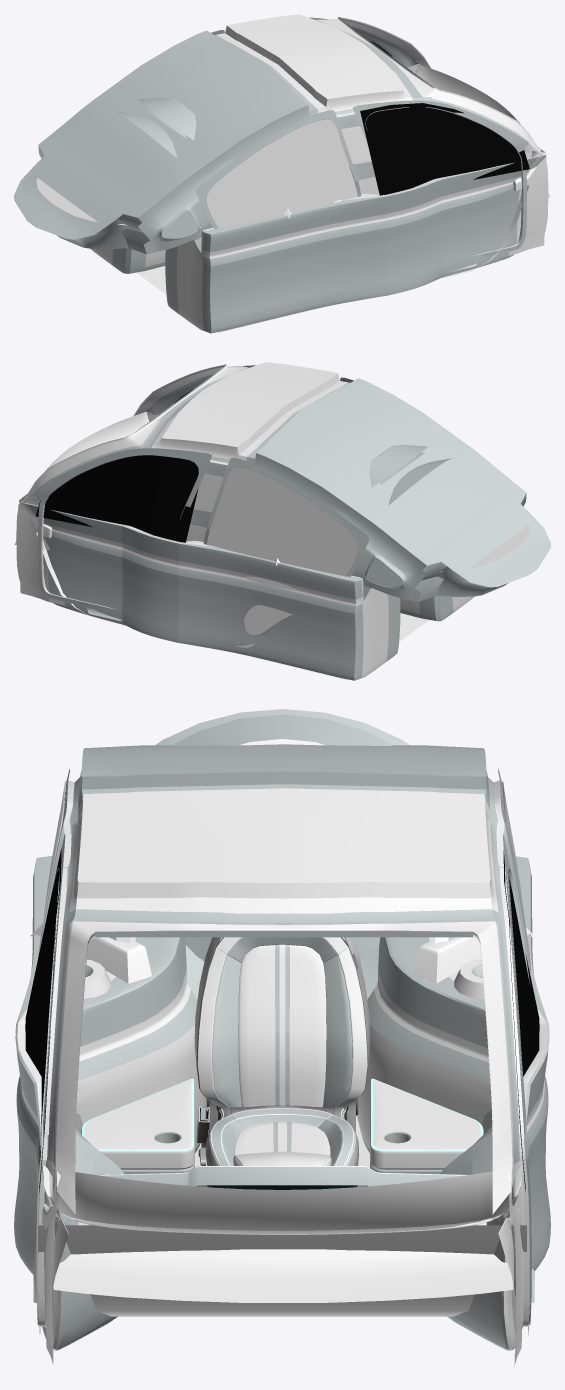
The model's file is Bynocs Car New.fbx.
The picture shows the model from 3 angles, top to bottom: view 1: azimuth 30°, elevation 25°; view 2: azimuth 150°, elevation 25°; view 3: azimuth 270°, elevation 25°; orthographic projection. The views are drawn at different scales.
Parts seen in each view (by area): view 1: Frame_Low, Cube.001, Cube.005, Sphere, Dashboard_Upper_Low, Plane, Leather_white_Low; view 2: Frame_Low, Cube.001, Cube.005, Sphere, Dashboard_Upper_Low, Plane, Leather_white_Low; view 3: Frame_Low, Cube.001, Dashboard_Upper_Low, Plane, Cube.003, Lether_Y_1, Lether_Y_4, Sphere, Cube.005, Cube.002, Cube.004, Leather_Y1 (+5 smaller).
Part boxes in pixels (<box>): Frame_Low: <box>14,14,548,271</box>; Cube.001: <box>91,72,546,333</box>; Cube.005: <box>360,41,529,195</box>; Sphere: <box>113,97,196,157</box>; Dashboard_Upper_Low: <box>415,64,550,197</box>; Plane: <box>136,185,528,332</box>; Leather_white_Low: <box>36,178,202,230</box>; Frame_Low: <box>16,362,550,647</box>; Cube.001: <box>19,502,474,680</box>; Cube.005: <box>36,389,198,542</box>; Sphere: <box>369,445,451,505</box>; Dashboard_Upper_Low: <box>14,412,149,550</box>; Plane: <box>36,532,428,680</box>; Leather_white_Low: <box>440,525,529,572</box>; Frame_Low: <box>33,744,534,1366</box>; Cube.001: <box>14,856,550,1350</box>; Dashboard_Upper_Low: <box>42,1171,522,1302</box>; Plane: <box>38,1115,526,1316</box>; Cube.003: <box>81,1078,483,1173</box>; Lether_Y_1: <box>197,937,367,1107</box>; Lether_Y_4: <box>238,944,326,1107</box>; Sphere: <box>109,709,455,999</box>; Cube.005: <box>25,849,539,1192</box>; Cube.002: <box>97,1166,467,1189</box>; Cube.004: <box>30,923,534,983</box>; Leather_Y1: <box>233,1122,331,1165</box>.
Bounding box in the file's own units: 874 × 355 × 434.
5 materials, 1 textured.
